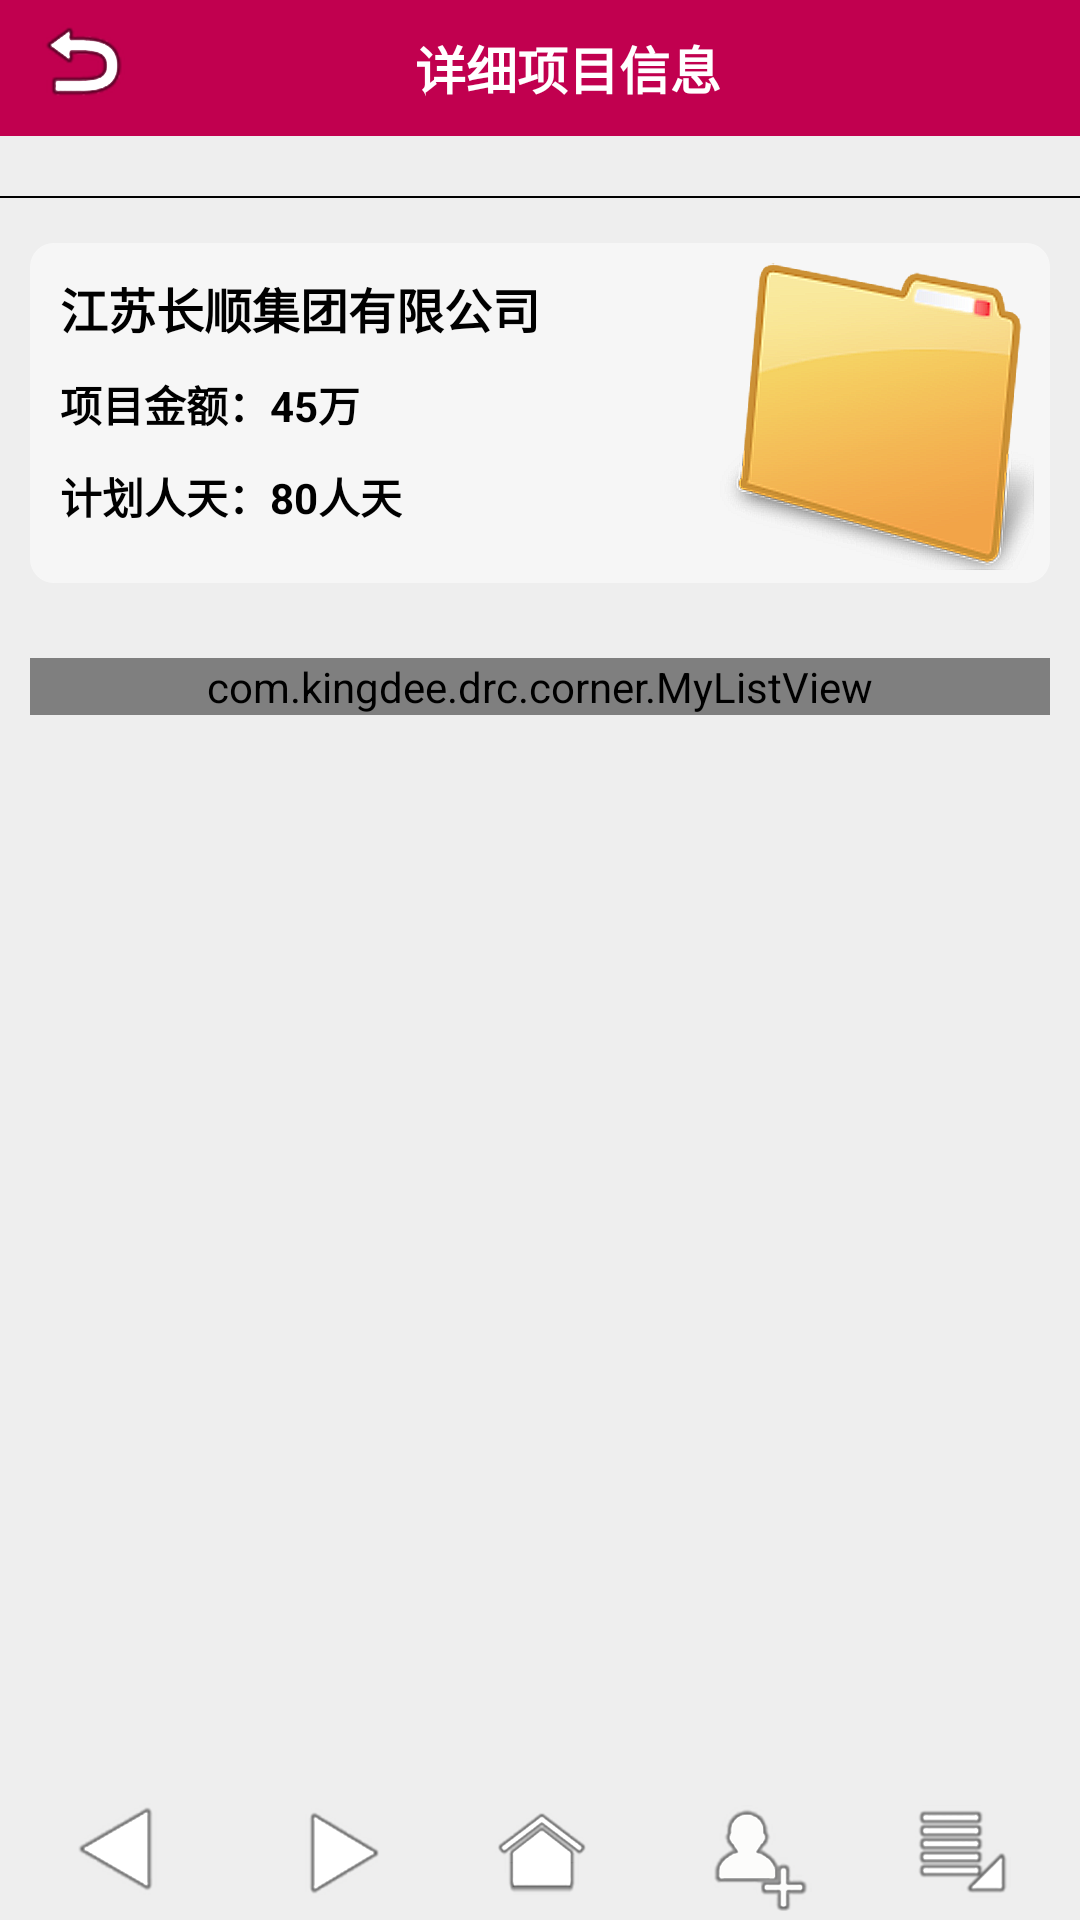

Icons on this 1080px x 1920px Android screen, each with the point to tap as [x,y]:
add: [761,1860]
more: [963,1851]
